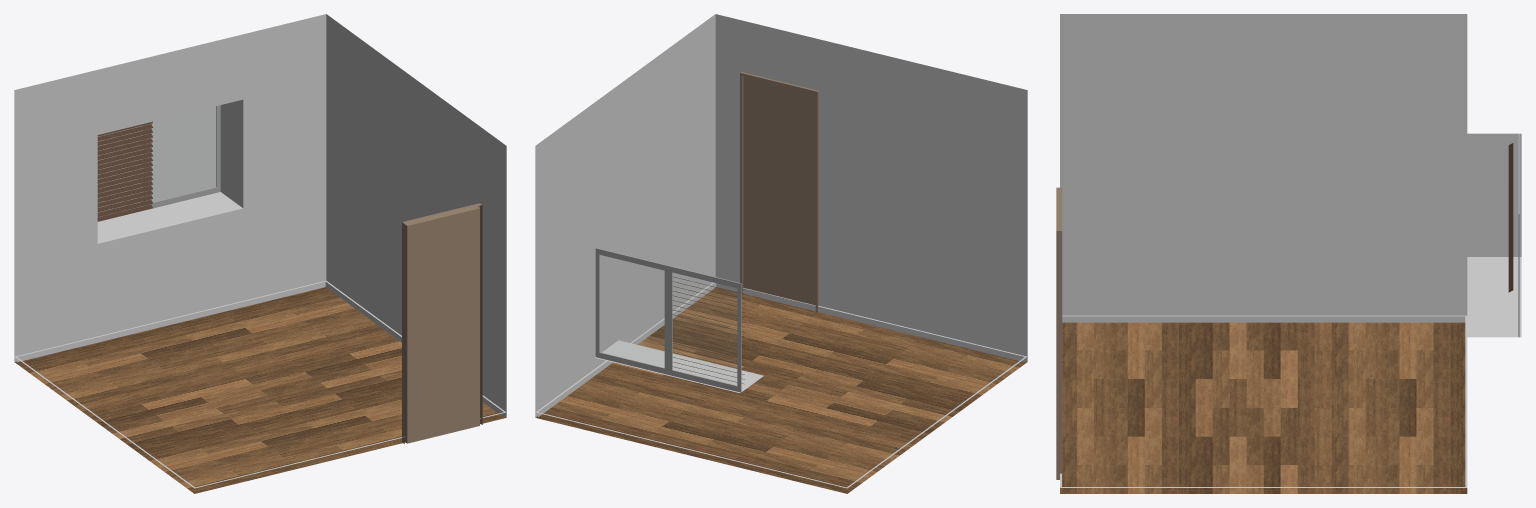
The picture shows the model from 3 angles, left to right: view 1: azimuth 30°, elevation 25°; view 2: azimuth 150°, elevation 25°; view 3: azimuth 270°, elevation 25°; orthographic projection. The views are drawn at different scales.
Parts seen in each view (by area): view 1: Wall, Floor, Door, _ROOM_WALL_walls, Cube, Habaki, DoorFrame, Window; view 2: Wall, Floor, Door, Habaki, Window, DoorFrame, Cube; view 3: Wall, Floor, Habaki, DoorFrame, Cube.
Boxes of the visible parts, left/top/right/bottom form: Wall: left=14, top=14, right=506, bottom=417; Floor: left=14, top=287, right=505, bottom=493; Door: left=405, top=207, right=479, bottom=443; _ROOM_WALL_walls: left=97, top=106, right=216, bottom=212; Cube: left=97, top=121, right=153, bottom=221; Habaki: left=15, top=280, right=505, bottom=488; DoorFrame: left=402, top=203, right=482, bottom=443; Window: left=98, top=105, right=220, bottom=221; Wall: left=535, top=14, right=1027, bottom=417; Floor: left=536, top=287, right=1027, bottom=493; Door: left=743, top=76, right=815, bottom=305; Habaki: left=536, top=282, right=1026, bottom=488; Window: left=595, top=248, right=741, bottom=392; DoorFrame: left=740, top=72, right=818, bottom=311; Cube: left=672, top=276, right=744, bottom=384; Wall: left=1060, top=14, right=1521, bottom=337; Floor: left=1060, top=322, right=1467, bottom=493; Habaki: left=1060, top=315, right=1467, bottom=487; DoorFrame: left=1056, top=187, right=1062, bottom=479; Cube: left=1508, top=143, right=1513, bottom=292.
Bounding box in the file's own units: 3 × 2.5 × 3.43.
5 materials, 1 textured.
